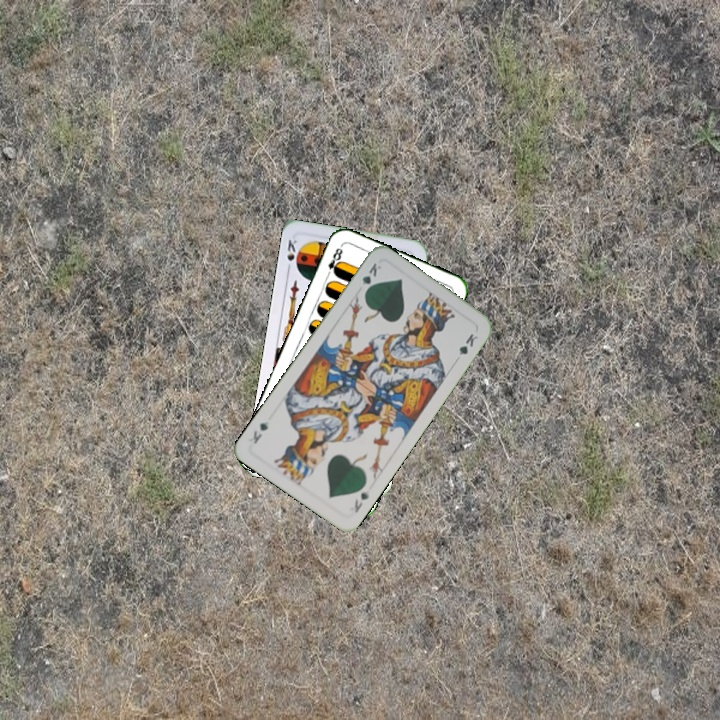E8: (322, 244, 345, 280)
GK: (358, 259, 384, 297), (350, 486, 372, 515)
SK: (283, 236, 302, 275)
